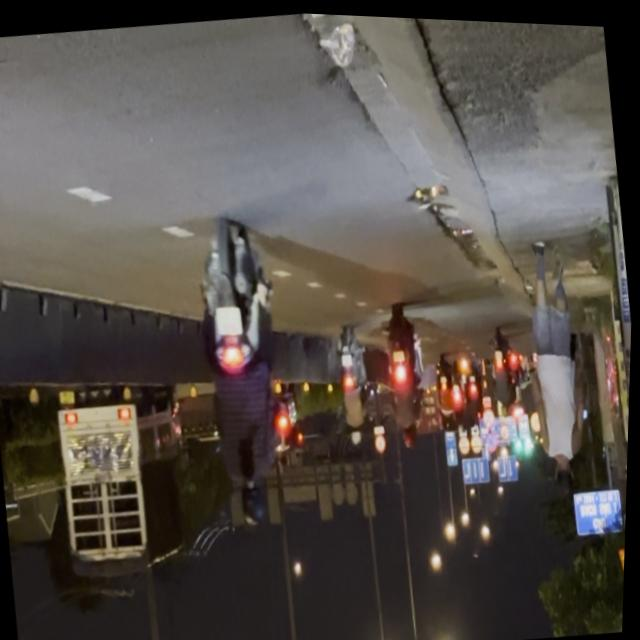helmet: (240, 476, 272, 524)
licenseplate: (180, 212, 306, 531)
nohelmet: (216, 302, 246, 334)
